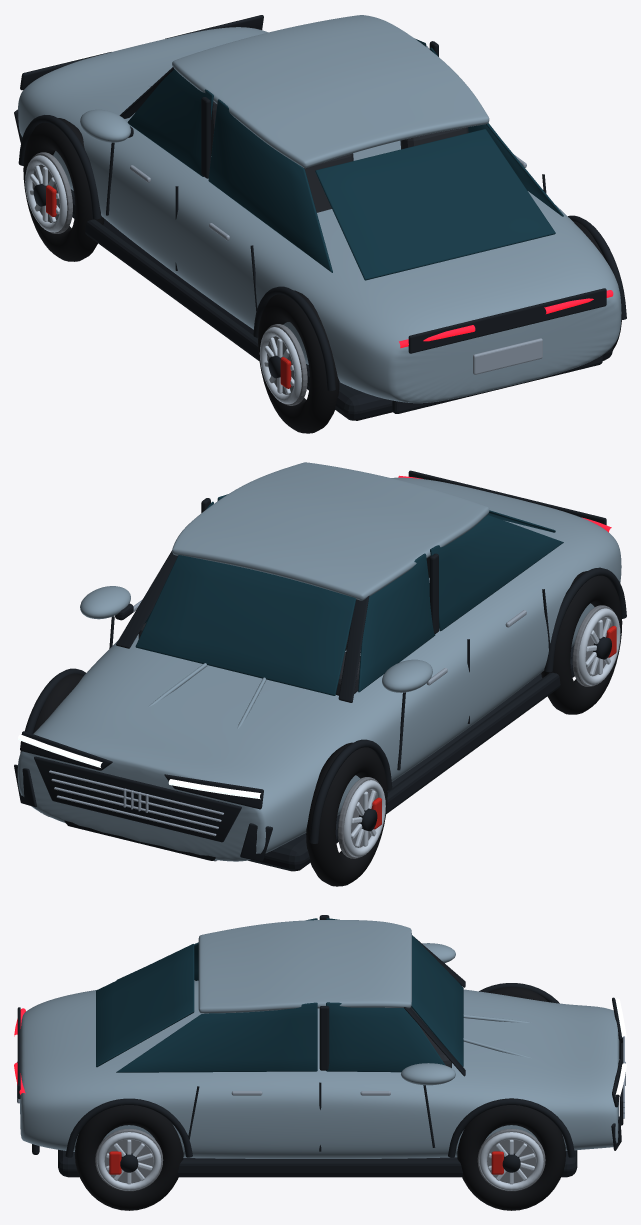
The model's file is timbas-coupe-suv.glb.
3 renders of one model, top to bottom at view 1: azimuth 30°, elevation 25°; view 2: azimuth 150°, elevation 25°; view 3: azimuth 270°, elevation 25°, orthographic. The views are drawn at different scales.
Parts seen in each view (by area): view 1: Timbas steel blue paint, Smoked glass, Satin black trim, Performance tire, Machined alloy, Dark chrome, Brake rotor, Charcoal interior, LED tail light, Red brake caliper; view 2: Timbas steel blue paint, Smoked glass, Satin black trim, Performance tire, Machined alloy, Dark chrome, Brake rotor, LED headlight; view 3: Timbas steel blue paint, Smoked glass, Satin black trim, Performance tire, Machined alloy, Brake rotor, Red brake caliper, Dark chrome.
Boxes of the visible parts, x1,y1,x2,y2 form: Timbas steel blue paint: (18, 15, 621, 403); Smoked glass: (127, 38, 563, 280); Satin black trim: (14, 15, 626, 420); Performance tire: (23, 118, 621, 433); Machined alloy: (25, 155, 301, 404); Dark chrome: (130, 154, 542, 374); Brake rotor: (32, 152, 307, 405); Charcoal interior: (211, 101, 468, 212); LED tail light: (399, 290, 613, 348); Red brake caliper: (46, 185, 291, 388); Timbas steel blue paint: (17, 462, 621, 861); Smoked glass: (135, 494, 563, 695); Satin black trim: (14, 470, 626, 871); Performance tire: (33, 571, 622, 886); Machined alloy: (343, 608, 620, 857); Dark chrome: (49, 599, 526, 861); Brake rotor: (338, 605, 613, 858); LED headlight: (18, 734, 260, 799); Timbas steel blue paint: (20, 920, 619, 1158); Smoked glass: (96, 918, 463, 1072); Satin black trim: (17, 915, 623, 1177); Performance tire: (74, 986, 565, 1210); Machined alloy: (97, 1132, 543, 1190); Brake rotor: (95, 1128, 545, 1191); Red brake caliper: (109, 1151, 503, 1174); Dark chrome: (17, 1036, 625, 1118).
Bounding box in the file's own units: 2.31 × 1.57 × 4.42.
